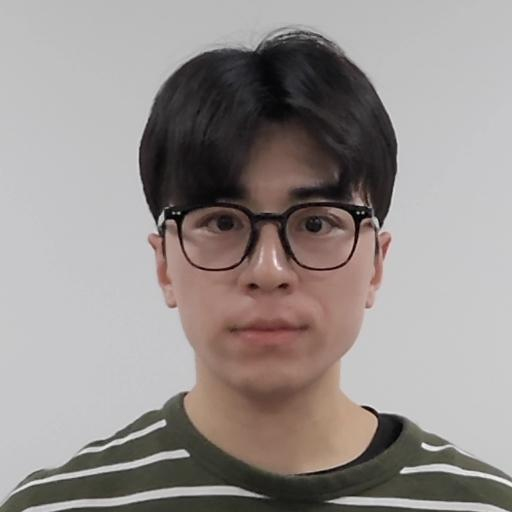no_glasses: (122, 33, 408, 399)
